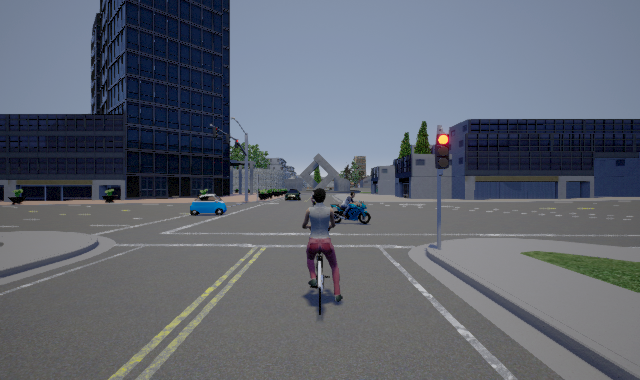bike: (296, 188, 344, 315)
motobike: (330, 200, 371, 224)
traffic_light: (435, 127, 449, 176)
vehicle: (190, 194, 227, 216), (282, 185, 304, 202)
